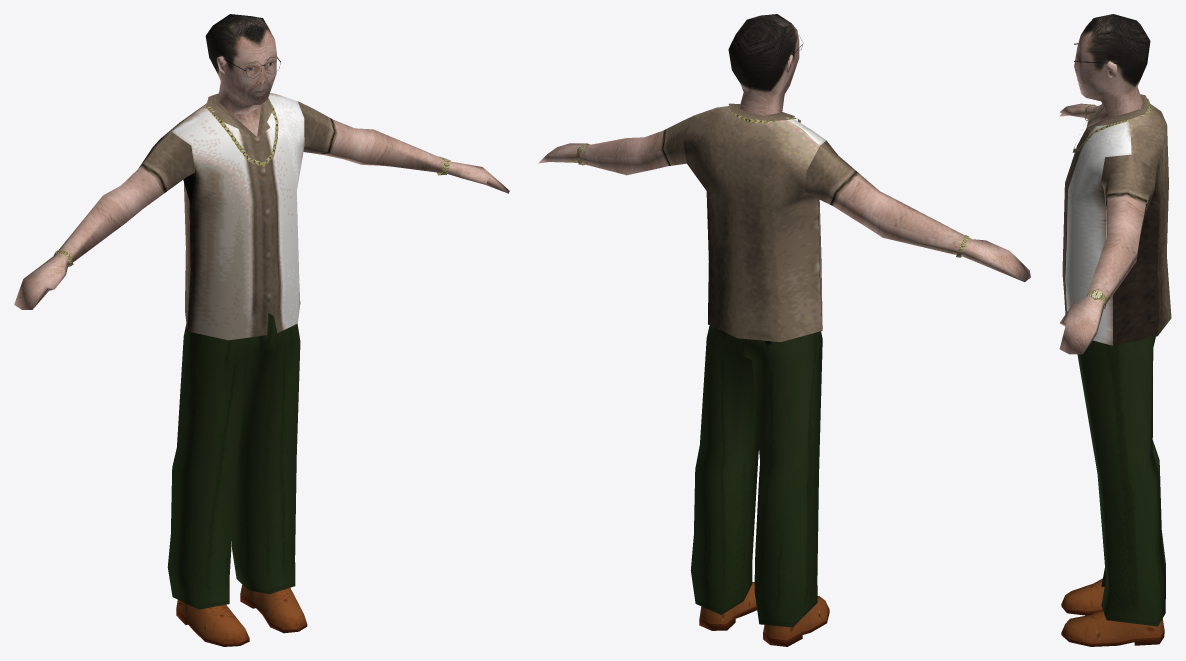
The model's file is M_guy.fbx.
The picture shows the model from 3 angles, left to right: view 1: azimuth 30°, elevation 25°; view 2: azimuth 150°, elevation 25°; view 3: azimuth 270°, elevation 25°; orthographic projection.
Visible parts, largest first — view 1: character_MafiaMen; view 2: character_MafiaMen; view 3: character_MafiaMen.
Part boxes in pixels (x1,y1,x2,y2): character_MafiaMen: (14, 14, 509, 646); character_MafiaMen: (538, 14, 1030, 646); character_MafiaMen: (1059, 14, 1171, 646).
Bounding box in the file's own units: 154 × 182 × 30.45.
